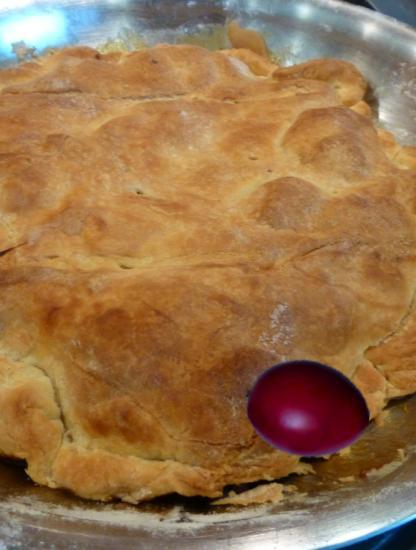Tamarillo: (237, 341, 370, 474)
